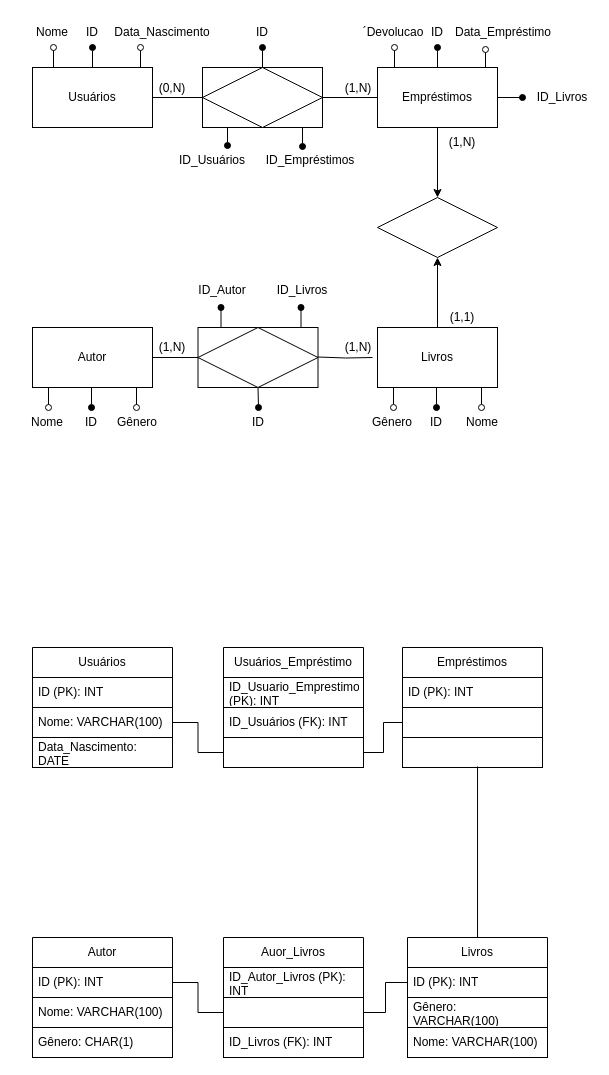
The diagram is 609 pixels wide and 1075 high, and some of its shapes have lost their labels. The shapes that lost their labels are listed below. From the top down, each one's centre as x and y in pixels, then its label:
(262,97): Realiza
(437,227): Conter
(257,357): Escreve
(472,722): Devolucao: DATE
(293,752): ID_Empréstimos (FK): INT
(472,752): Data_Empréstimo: DATE
(293,1012): ID_Autor (FK): INT
